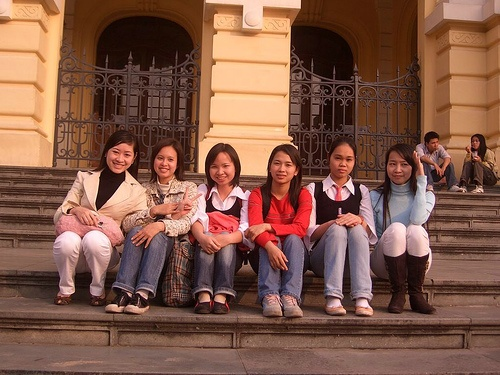head: (151, 139, 182, 181), (106, 131, 136, 174), (386, 143, 416, 186), (269, 144, 299, 187), (208, 145, 238, 188), (327, 138, 353, 181), (422, 129, 442, 155), (467, 131, 488, 155)
person: (50, 128, 151, 308), (106, 135, 202, 312), (365, 137, 434, 320), (305, 135, 373, 318), (244, 141, 308, 318), (188, 140, 251, 313), (456, 132, 497, 188), (416, 131, 455, 188)
